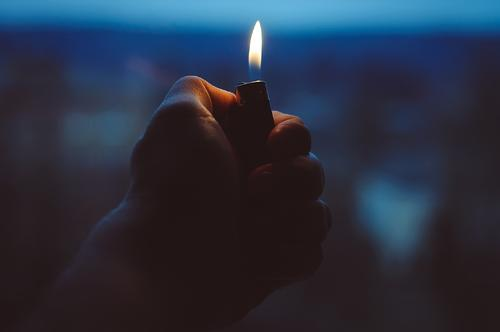Fire: (245, 19, 265, 80)
